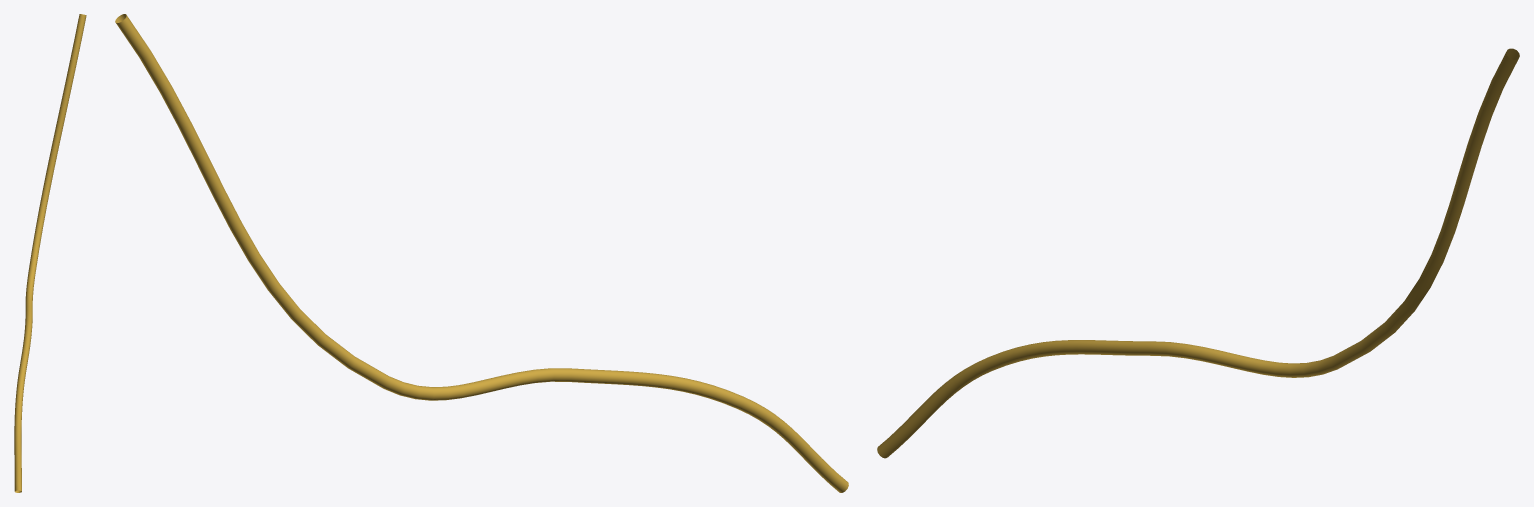
3 views of the same model, side by side, from view 1: azimuth 30°, elevation 25°; view 2: azimuth 150°, elevation 25°; view 3: azimuth 270°, elevation 25° (orthographic). The views are drawn at different scales.
Visible parts, largest first — view 1: 右侧腓总神经交通支; view 2: 右侧腓总神经交通支; view 3: 右侧腓总神经交通支.
Part boxes in pixels (x1,y1,x2,y2): 右侧腓总神经交通支: (14,14,86,492); 右侧腓总神经交通支: (115,14,848,492); 右侧腓总神经交通支: (877,48,1519,458).
Bounding box in the file's own units: 0.0534 × 0.0697 × 0.0652.
